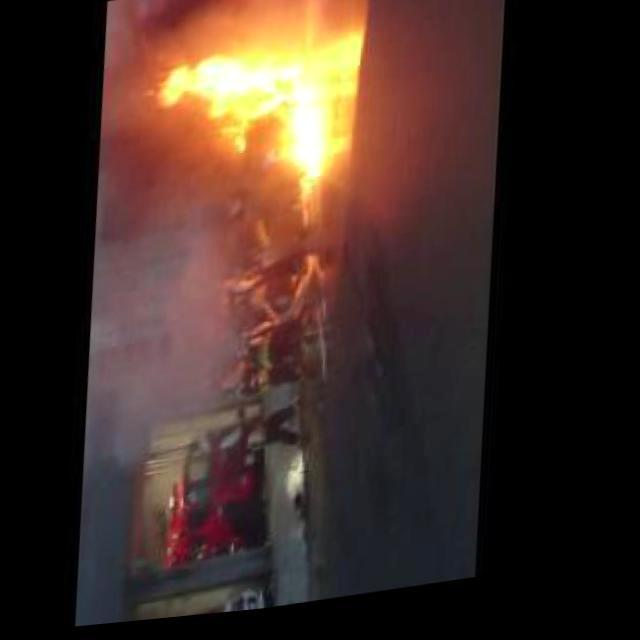fire: (147, 30, 350, 222)
